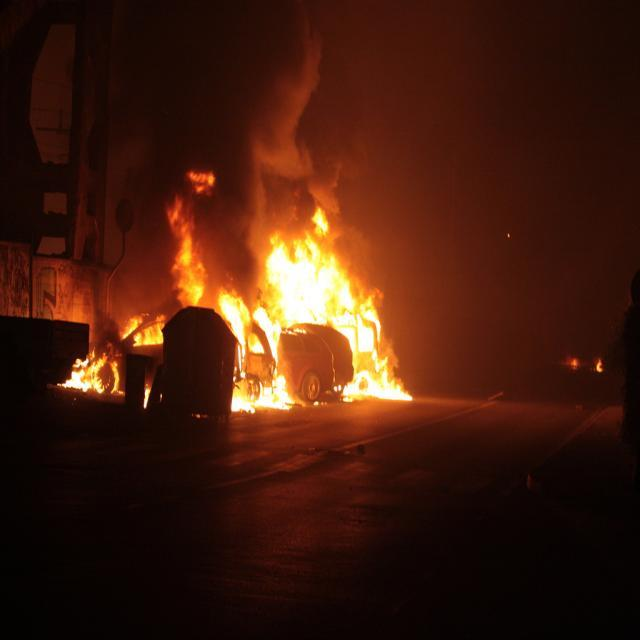Fire: (266, 248, 352, 320), (234, 378, 286, 412), (351, 376, 402, 399)
Smoke: (188, 36, 294, 178)
